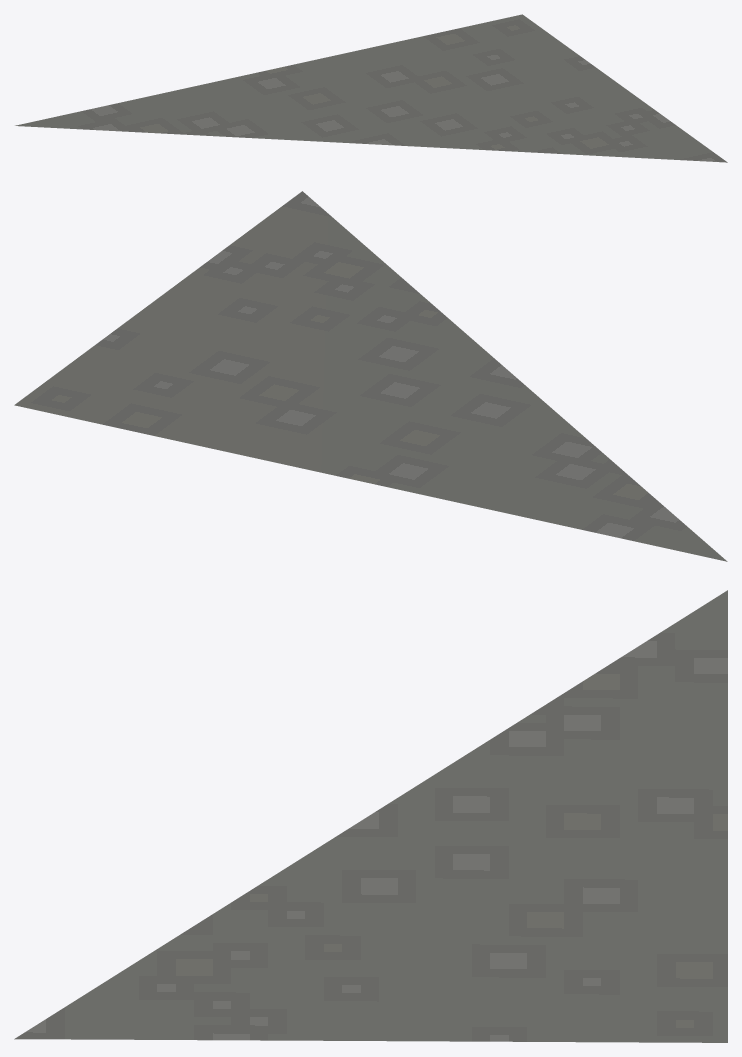
The model's file is kd_stage_135ebf_3_22_bounded.glb.
3 renders of one model, top to bottom at view 1: azimuth 30°, elevation 25°; view 2: azimuth 150°, elevation 25°; view 3: azimuth 270°, elevation 25°, orthographic. The views are drawn at different scales.
Parts seen in each view (by area): view 1: kd_stage_135ebf_3_22_bounded; view 2: kd_stage_135ebf_3_22_bounded; view 3: kd_stage_135ebf_3_22_bounded.
Boxes of the visible parts, x1=… form: kd_stage_135ebf_3_22_bounded: x1=15, y1=14, x2=727, y2=162; kd_stage_135ebf_3_22_bounded: x1=14, y1=191, x2=727, y2=561; kd_stage_135ebf_3_22_bounded: x1=14, y1=590, x2=727, y2=1042.
Bounding box in the file's own units: 1.09 × 0.0256 × 0.7628.
Materials: 1 (1 with a texture image).
